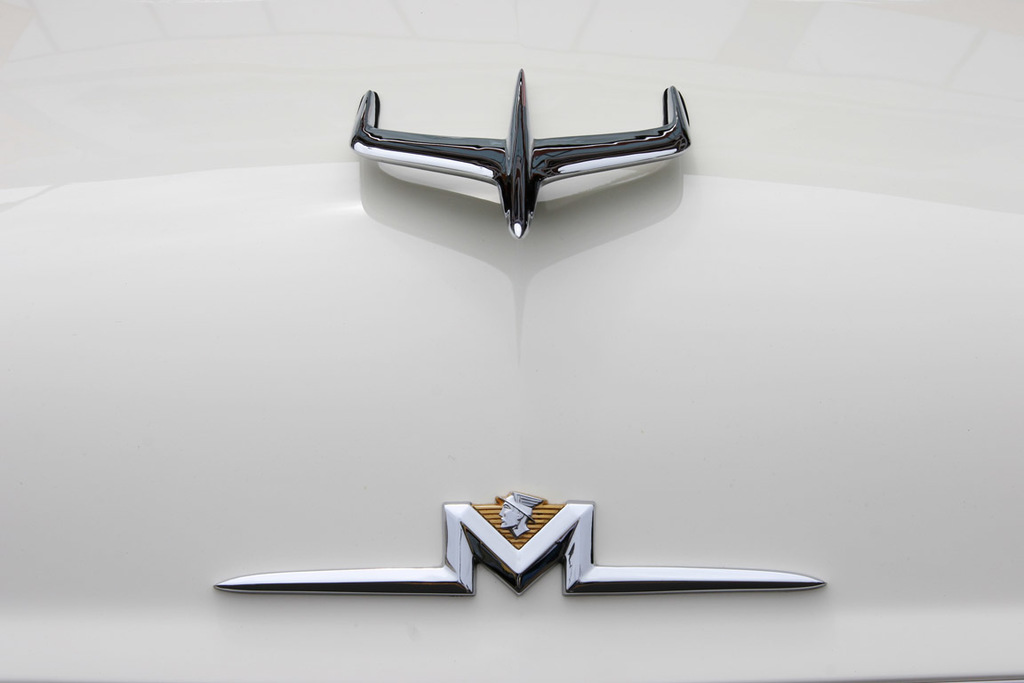Car: (0, 0, 1016, 682)
